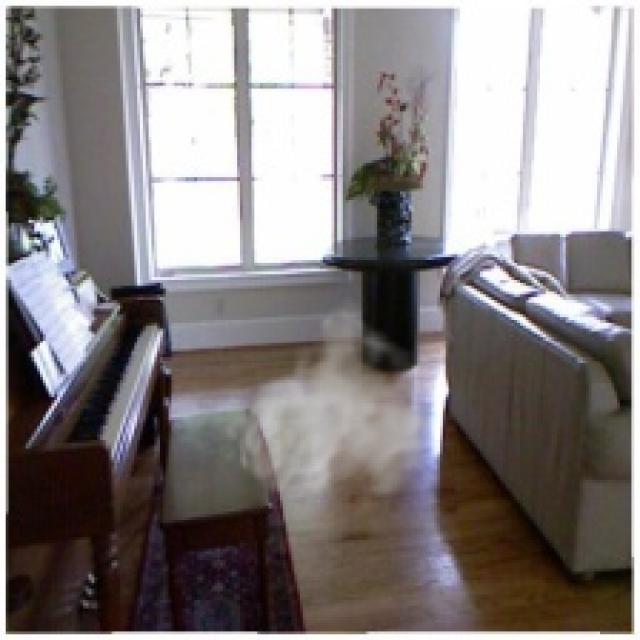smoke: (220, 291, 440, 526)
